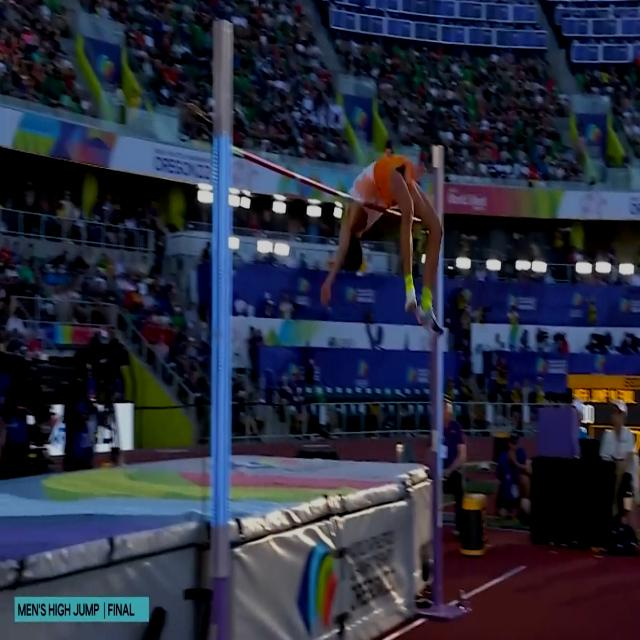jump: (319, 152, 445, 338)
